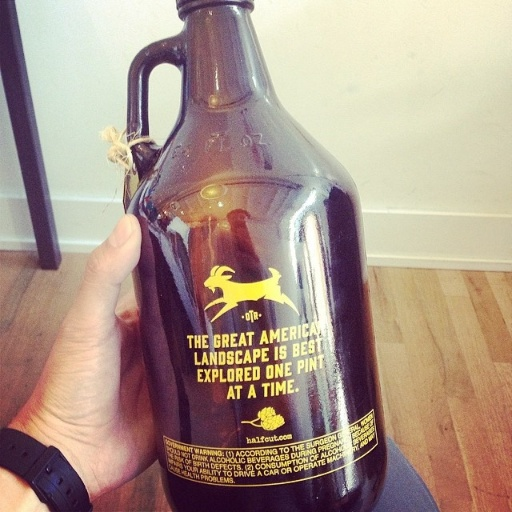hand: (19, 192, 156, 512)
